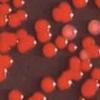red: (79, 76, 100, 99), (40, 41, 59, 60), (61, 22, 79, 42), (61, 67, 84, 82), (55, 74, 73, 92), (40, 74, 56, 94), (32, 18, 53, 33), (19, 33, 37, 48), (4, 31, 18, 50), (0, 30, 11, 54), (67, 55, 82, 72), (87, 18, 100, 37), (7, 13, 22, 29), (60, 9, 76, 24), (86, 43, 100, 60), (6, 88, 25, 100), (34, 32, 53, 44), (78, 57, 93, 72), (56, 1, 73, 14), (49, 6, 62, 23), (15, 42, 33, 54), (0, 54, 14, 69), (54, 35, 68, 50), (81, 36, 97, 49), (15, 26, 28, 41), (15, 9, 29, 22), (70, 0, 90, 9), (0, 2, 13, 15), (78, 47, 90, 61), (89, 65, 100, 80), (66, 41, 78, 54), (0, 65, 8, 84), (0, 12, 9, 28), (32, 91, 48, 100), (11, 0, 26, 9), (92, 0, 100, 11), (75, 95, 89, 100), (27, 96, 38, 100), (0, 0, 11, 3)
